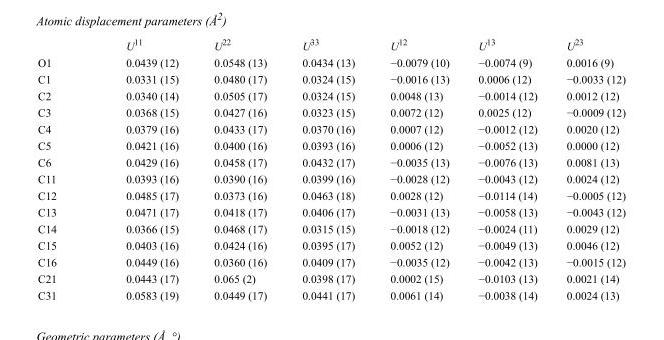table: (37, 36, 624, 301)
table column: (90, 36, 195, 301), (371, 36, 463, 301), (195, 36, 283, 301), (283, 36, 371, 301), (463, 36, 551, 301), (551, 36, 624, 301), (37, 36, 90, 301)
table column header: (37, 36, 624, 53)
table row: (37, 36, 624, 53), (37, 53, 624, 70), (37, 70, 624, 87), (37, 103, 624, 120), (37, 136, 624, 153), (37, 153, 624, 170), (37, 186, 624, 203), (37, 203, 624, 220), (37, 236, 624, 253), (37, 269, 624, 286), (37, 87, 624, 103), (37, 120, 624, 136), (37, 170, 624, 186), (37, 220, 624, 236), (37, 253, 624, 269), (37, 286, 624, 301)
